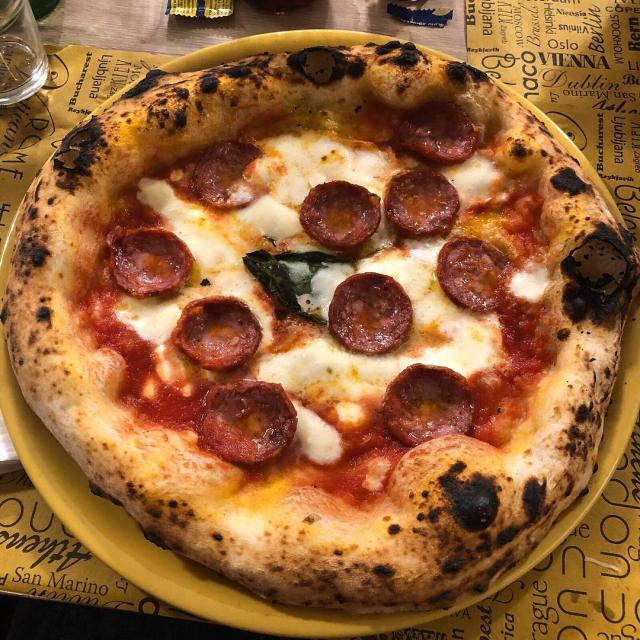basil: (242, 244, 355, 323)
pepperoni: (196, 376, 300, 468), (381, 362, 486, 445), (324, 270, 416, 358), (167, 293, 266, 372), (107, 221, 198, 299), (293, 175, 383, 252), (436, 234, 514, 316), (190, 134, 271, 212), (397, 90, 482, 164), (383, 159, 460, 235)
pizza: (2, 41, 640, 613)
